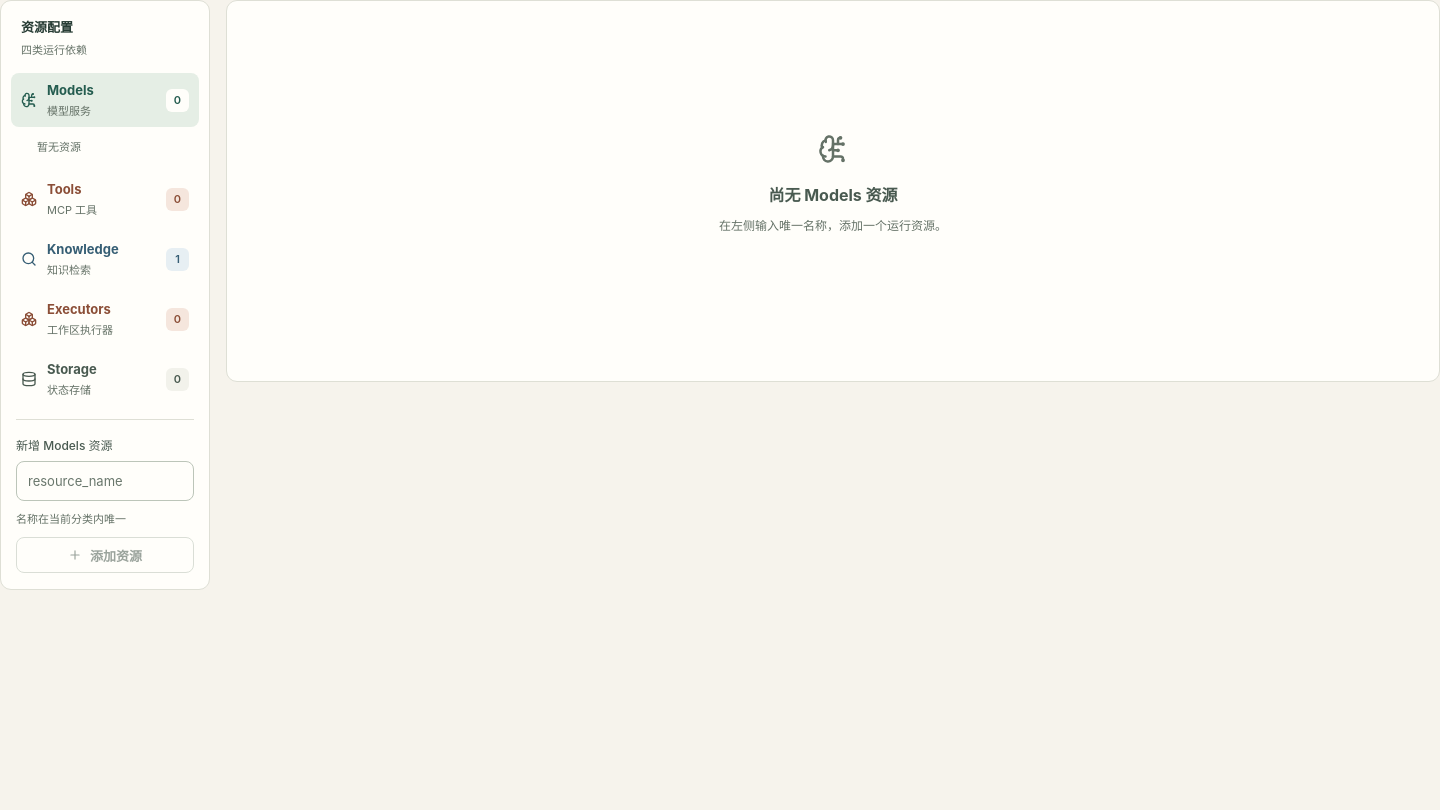
Test case: managed knowledge retains only embedding credential controls and owner guards
The width and height of the screenshot is (1440, 810).
Click the button with aria-label "Knowledge ·" at (105, 259), box [11,232,199,286]
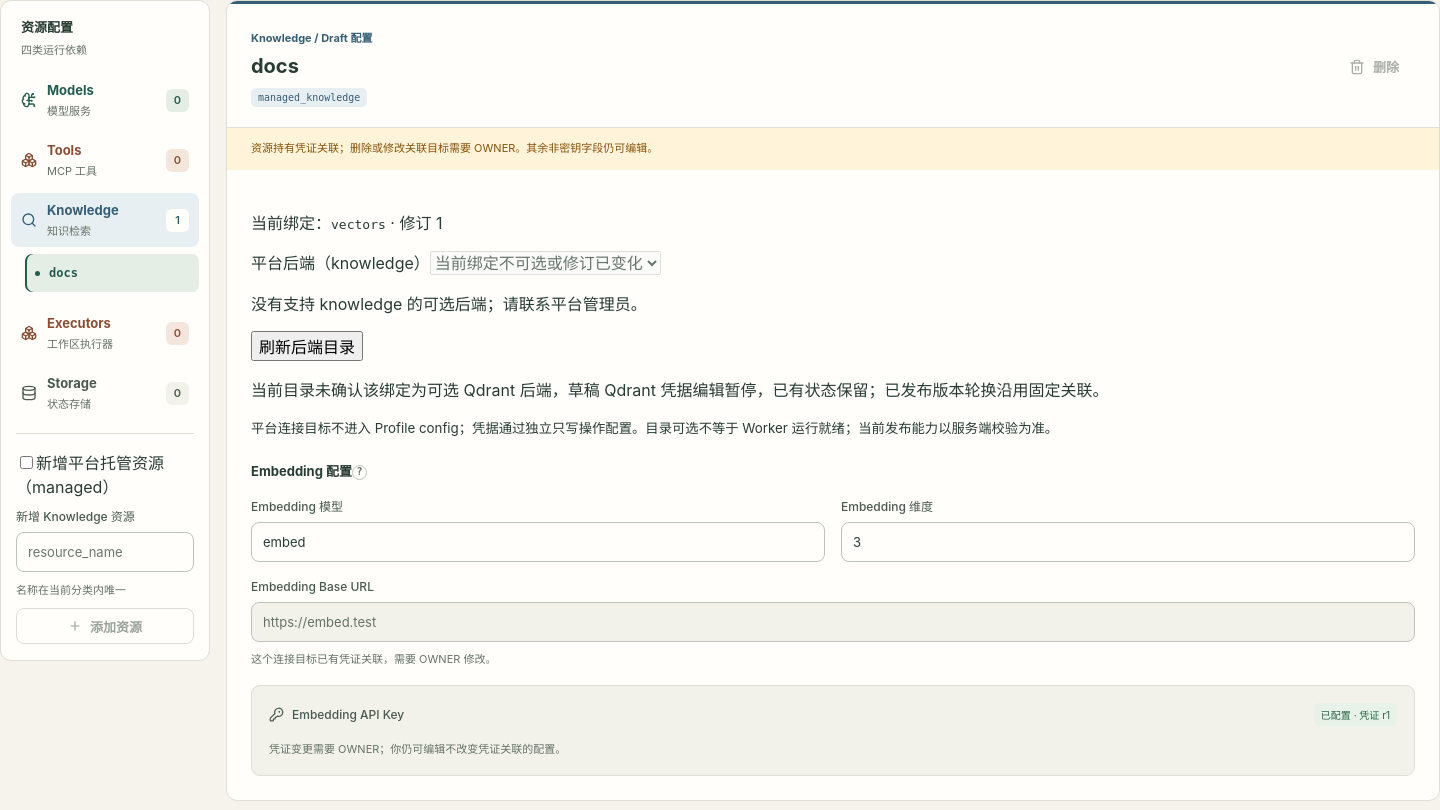
Expected: the text "没有支持 knowledge 的可选后端；请联系平台管理员。" is shown, [251,294,647,314]
Expected: the field labelled "Embedding Base URL" is disabled, [251,602,1415,642]
Expected: the text "Embedding API Key" is shown, [269,707,404,722]
